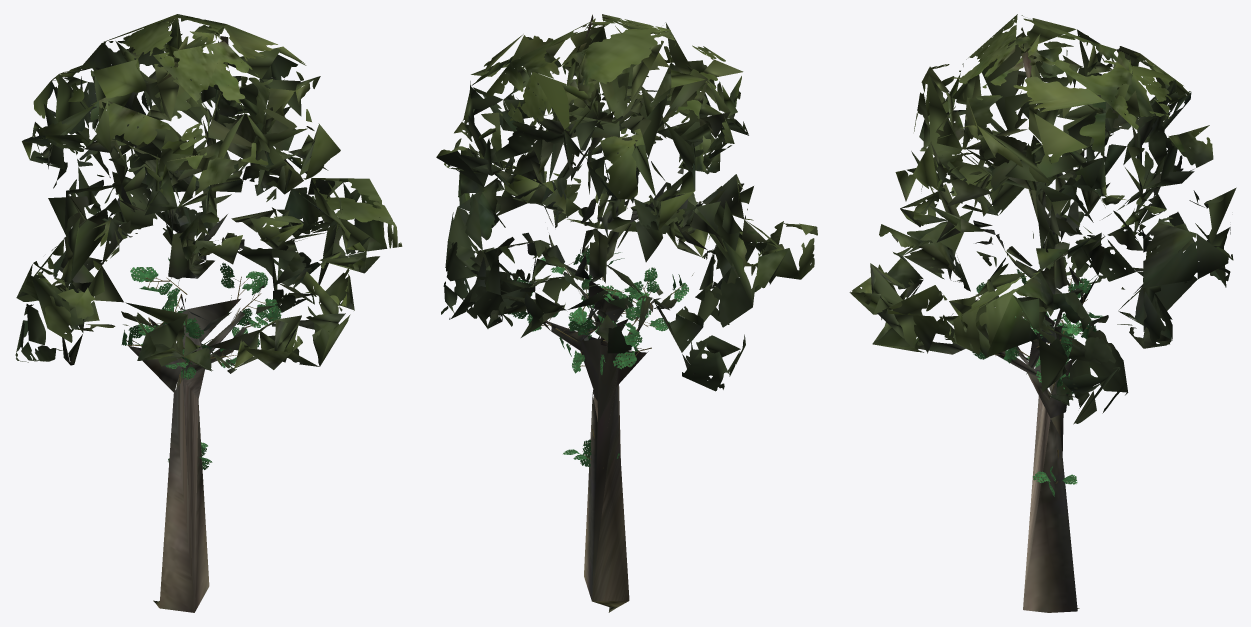
Rendered from tree-1527-far.glb.
3 views of the same model, side by side, from view 1: azimuth 30°, elevation 25°; view 2: azimuth 150°, elevation 25°; view 3: azimuth 270°, elevation 25° (orthographic).
Parts seen in each view (by area): view 1: Foliage, Wood; view 2: Foliage, Wood; view 3: Foliage, Wood.
Part boxes in pixels (x1,y1,x2,y2): Foliage: (15, 14, 402, 469); Wood: (128, 294, 246, 612); Foliage: (436, 14, 817, 467); Wood: (542, 280, 648, 612); Foliage: (849, 14, 1236, 496); Wood: (995, 309, 1079, 612).
Bounding box in the file's own units: 7.16 × 11.67 × 7.02.
Materials: 2 (2 with a texture image).
